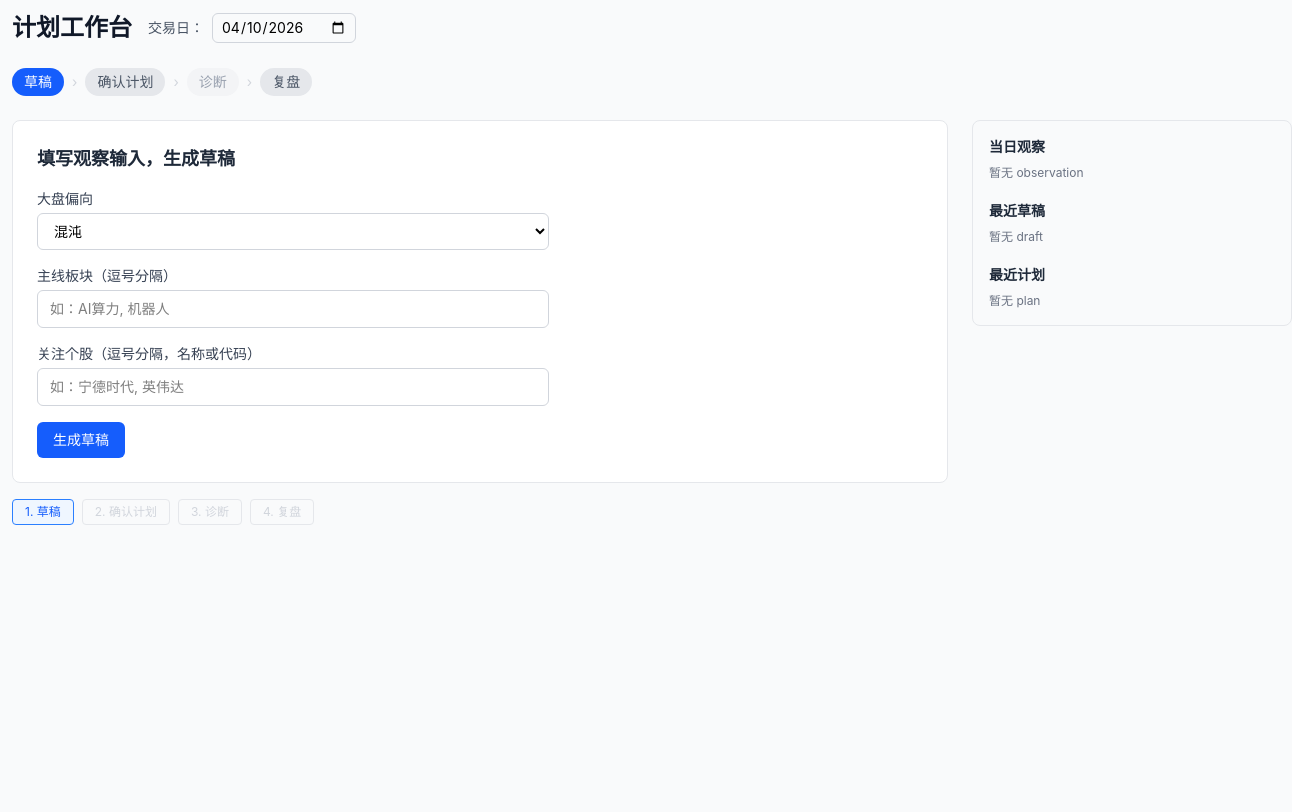
Scenario: PlanWorkbench › shows draft detail after draft creation
Click the button "生成草稿". click: coordinates (81, 440)
box: [37, 422, 125, 458]
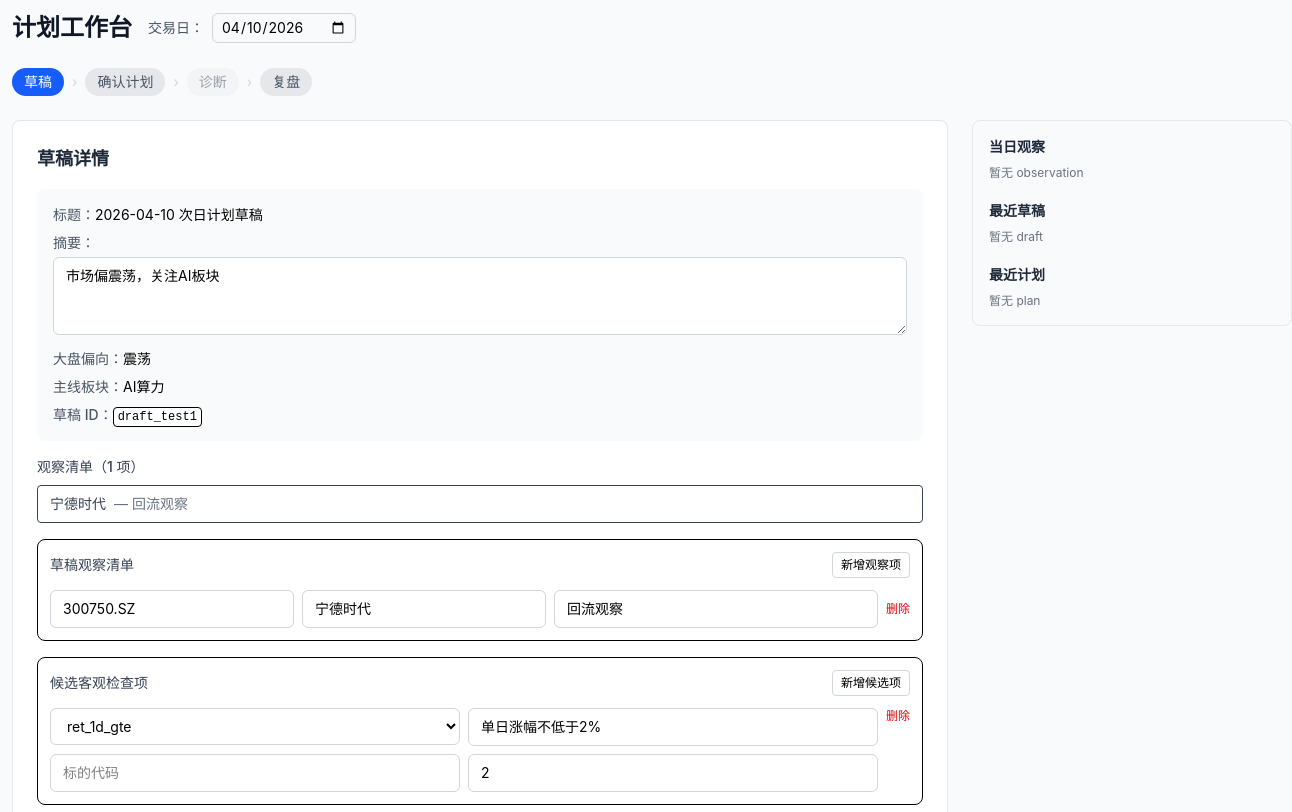
Expected: the heading "草稿详情" is shown, [37, 148, 109, 169]
Expected: the text "2026-04-10 次日计划草稿" is shown, [95, 206, 263, 223]
Expected: the text "draft_test1" is shown, [113, 407, 202, 427]
